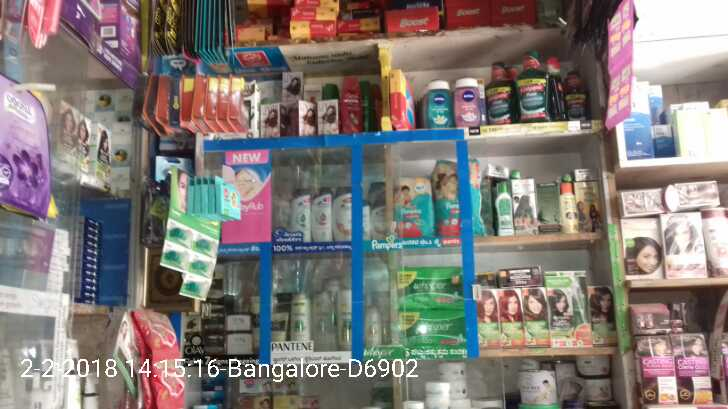beauty: (337, 288, 359, 361), (330, 183, 357, 239), (289, 291, 310, 351), (310, 187, 333, 241), (287, 187, 310, 238)
pharmacy: (435, 153, 483, 236), (388, 303, 469, 347), (389, 268, 463, 310), (389, 179, 434, 240)
